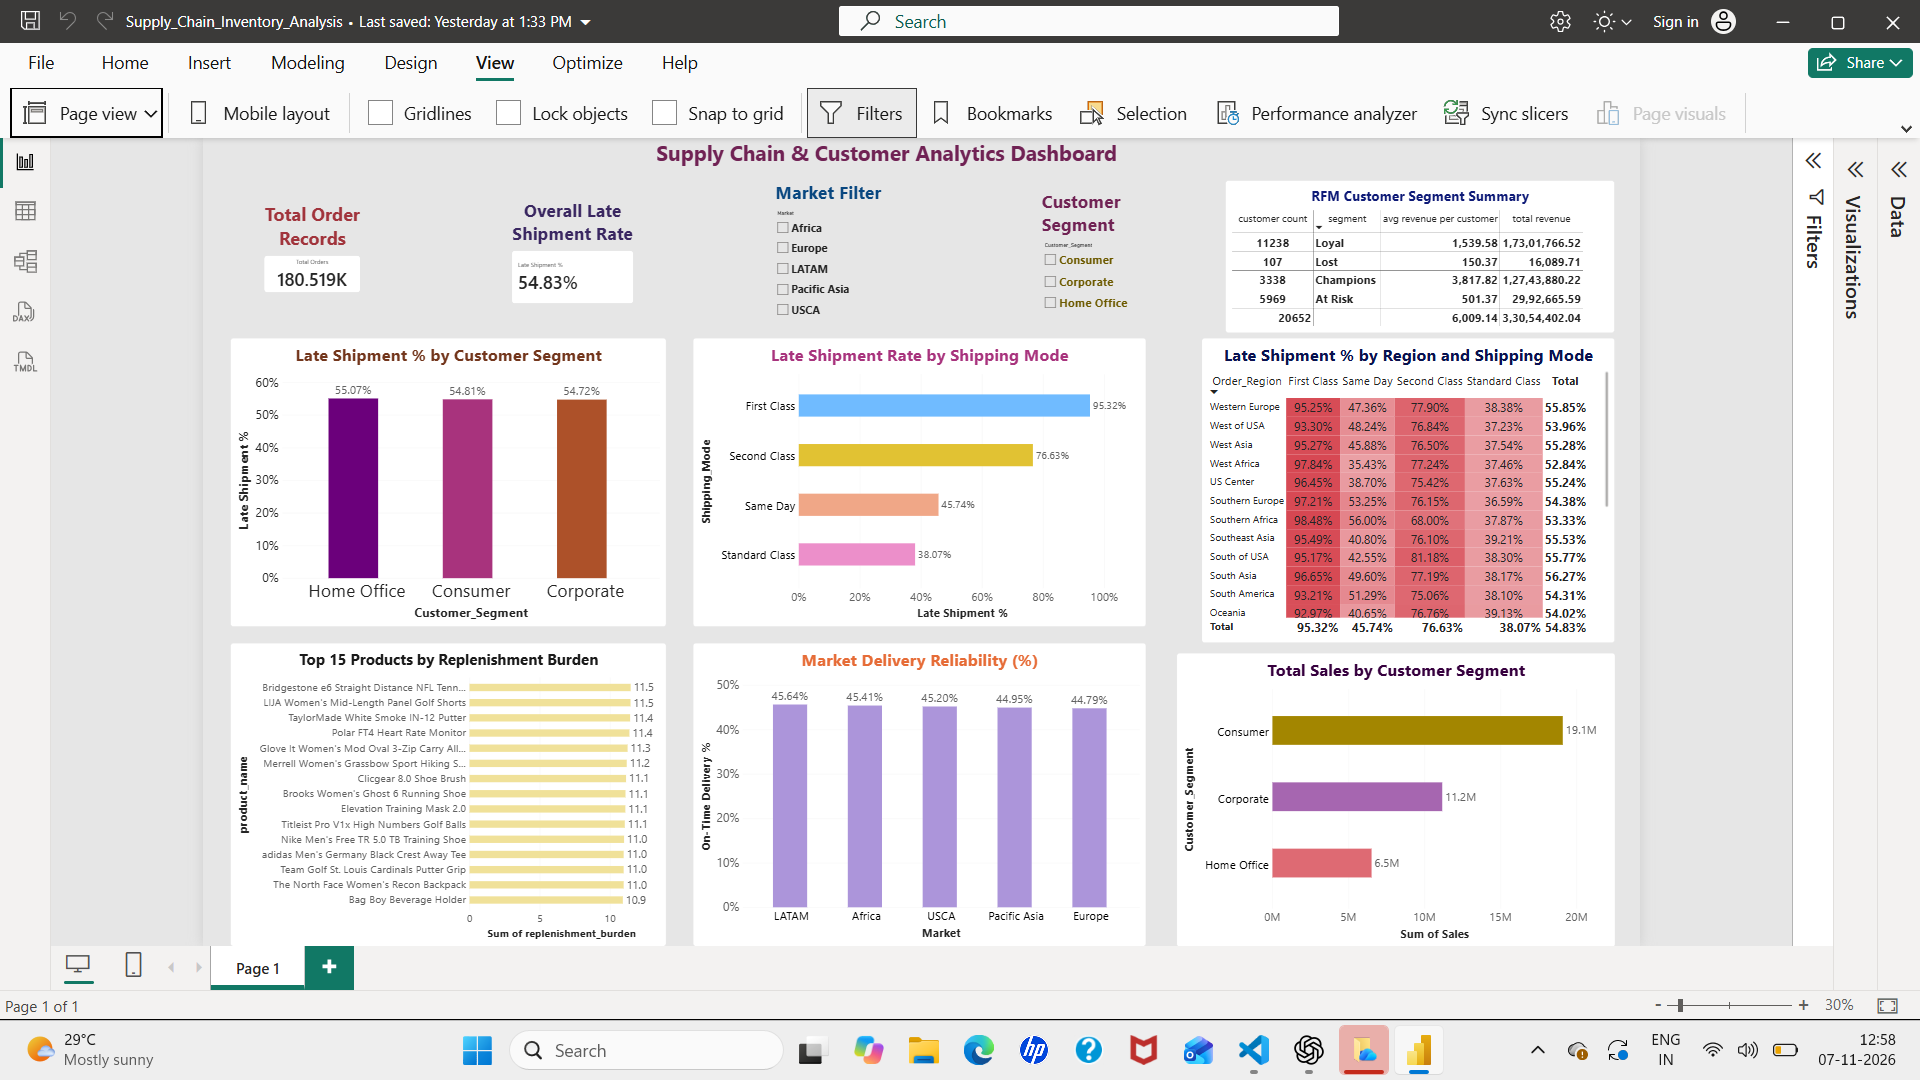

The page's visual inventory and layout, read from the dashboard file:
{"tool":"powerbi","page":{"name":"Page 1","canvas":[3840,2160],"ordinal":0},"visuals":[{"type":"pivotTable","title":"Late Shipment % by Region and Shipping Mode","fields":{"Columns":["supply_chain orders.Shipping_Mode"],"Rows":["supply_chain orders.Order_Region"],"Values":["supply_chain orders.Late Shipment %"]},"box":[2667.9,535.7,1103.6,814.3],"z":0},{"type":"clusteredBarChart","title":"Total Sales by Customer Segment","fields":{"Category":["supply_chain orders.Customer_Segment"],"Y":["Sum(supply_chain orders.Sales)"]},"box":[2600,1375,1171.4,785.7],"z":1000},{"type":"clusteredColumnChart","title":"Late Shipment % by Customer Segment","fields":{"Category":["supply_chain orders.Customer_Segment"],"Y":["supply_chain orders.Late Shipment %"]},"box":[75,535.7,1164.3,771.4],"z":2000},{"type":"clusteredBarChart","title":"Top 15 Products by Replenishment Burden","fields":{"Category":["supply_chain reorder_risk_by_product.product_name"],"Y":["Sum(supply_chain reorder_risk_by_product.replenishment_burden)"]},"box":[75,1350,1164.3,810.7],"z":3000},{"type":"clusteredColumnChart","title":"Market Delivery Reliability (%)","fields":{"Category":["supply_chain orders.Market"],"Y":["supply_chain orders.On-Time Delivery %"]},"box":[1310.7,1350,1210.7,810.7],"z":4000},{"type":"cardVisual","title":"Total Order Records","fields":{"Data":["CountNonNull(supply_chain orders.Order_Id)"]},"box":[164.3,171.4,257,242.5],"z":5000},{"type":"cardVisual","title":"Overall Late Shipment Rate","fields":{"Data":["supply_chain orders.Late Shipment %"]},"box":[825,160.7,325.7,282.3],"z":6000},{"type":"slicer","title":"Market Filter","fields":{"Values":["supply_chain orders.Market"]},"box":[1525,114.3,289.5,380],"z":7000},{"type":"slicer","title":"Customer Segment","fields":{"Values":["supply_chain orders.Customer_Segment"]},"box":[2239.3,135.7,242.5,340.2],"z":8000},{"type":"textbox","box":[39.3,10.7,3696.4,75],"z":9000},{"type":"textbox","box":[3633,10,207,150],"z":10000},{"type":"clusteredBarChart","title":"Late Shipment Rate by Shipping Mode","fields":{"Category":["supply_chain orders.Shipping_Mode"],"Y":["supply_chain orders.Late Shipment %"]},"box":[1310.7,535.7,1210.7,771.4],"z":11000},{"type":"tableEx","title":"RFM Customer Segment Summary","fields":{"Values":["Sum(supply_chain rfm_segment_summary.customer_count)","supply_chain rfm_segment_summary.segment","Sum(supply_chain rfm_segment_summary.avg_revenue_per_customer)","Sum(supply_chain rfm_segment_summary.total_revenue)"]},"box":[2732.1,114.3,1039.3,407.1],"z":12000},{"type":"textbox","box":[117.9,10.7,3464.3,53.6],"z":12001},{"type":"textbox","box":[492.9,0,2664.3,85.7],"z":12002}]}

Visuals, with their boxes on the page's 3840x2160 design canvas (x1, y1, x2, y2). These are canvas units, not pixel positions in the 1920x1080 screenshot, which may show the page scaled, cropped or inside an application window:
"Late Shipment % by Region and Shipping Mode" pivotTable: {"left": 2668, "top": 536, "right": 3772, "bottom": 1350}
"Total Sales by Customer Segment" clusteredBarChart: {"left": 2600, "top": 1375, "right": 3771, "bottom": 2161}
"Late Shipment % by Customer Segment" clusteredColumnChart: {"left": 75, "top": 536, "right": 1239, "bottom": 1307}
"Top 15 Products by Replenishment Burden" clusteredBarChart: {"left": 75, "top": 1350, "right": 1239, "bottom": 2161}
"Market Delivery Reliability (%)" clusteredColumnChart: {"left": 1311, "top": 1350, "right": 2521, "bottom": 2161}
"Total Order Records" cardVisual: {"left": 164, "top": 171, "right": 421, "bottom": 414}
"Overall Late Shipment Rate" cardVisual: {"left": 825, "top": 161, "right": 1151, "bottom": 443}
"Market Filter" slicer: {"left": 1525, "top": 114, "right": 1814, "bottom": 494}
"Customer Segment" slicer: {"left": 2239, "top": 136, "right": 2482, "bottom": 476}
textbox: {"left": 39, "top": 11, "right": 3736, "bottom": 86}
textbox: {"left": 3633, "top": 10, "right": 3840, "bottom": 160}
"Late Shipment Rate by Shipping Mode" clusteredBarChart: {"left": 1311, "top": 536, "right": 2521, "bottom": 1307}
"RFM Customer Segment Summary" tableEx: {"left": 2732, "top": 114, "right": 3771, "bottom": 521}
textbox: {"left": 118, "top": 11, "right": 3582, "bottom": 64}
textbox: {"left": 493, "top": 0, "right": 3157, "bottom": 86}
